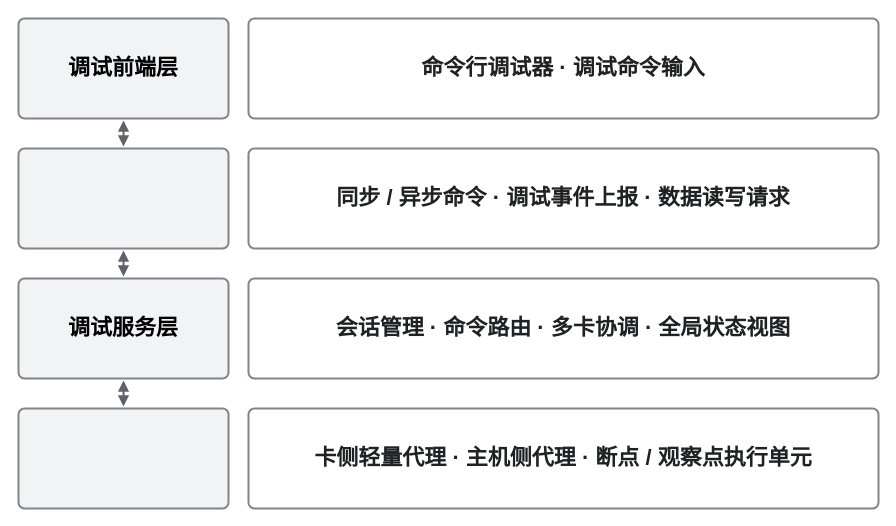
Image size: 896x526. Some labels were removed from this diagram. The centre of each missing label's shape, as x and y in pixels:
"调试代理层" belongs at (123,458).
"调试协议层" belongs at (123,198).
